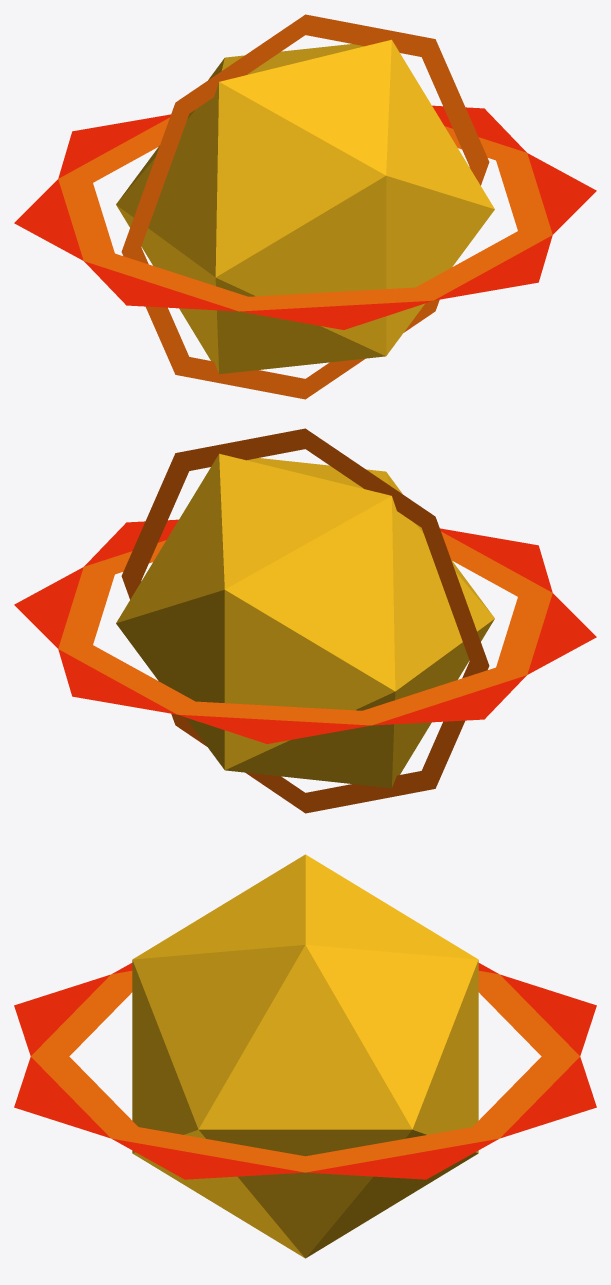
Rendered from solar_orb.obj.
3 views of the same model, one above another, from view 1: azimuth 30°, elevation 25°; view 2: azimuth 150°, elevation 25°; view 3: azimuth 270°, elevation 25° (orthographic). The views are drawn at different scales.
Parts seen in each view (by area): view 1: SolarCore, SolarRays, EquatorialOrbit, MeridianOrbit; view 2: SolarCore, SolarRays, EquatorialOrbit, MeridianOrbit; view 3: SolarCore, EquatorialOrbit, SolarRays.
Boxes of the visible parts, x1,y1,x2,y2 form: SolarCore: (116, 39, 494, 374); SolarRays: (14, 105, 596, 329); EquatorialOrbit: (58, 117, 552, 311); MeridianOrbit: (121, 14, 489, 399); SolarCore: (116, 453, 494, 788); SolarRays: (14, 519, 596, 743); EquatorialOrbit: (58, 531, 552, 725); MeridianOrbit: (121, 428, 489, 813); SolarCore: (132, 854, 478, 1258); EquatorialOrbit: (31, 971, 579, 1172); SolarRays: (14, 963, 596, 1179).
Size of the model in its own units: 2.86 by 2.24 by 2.86.
